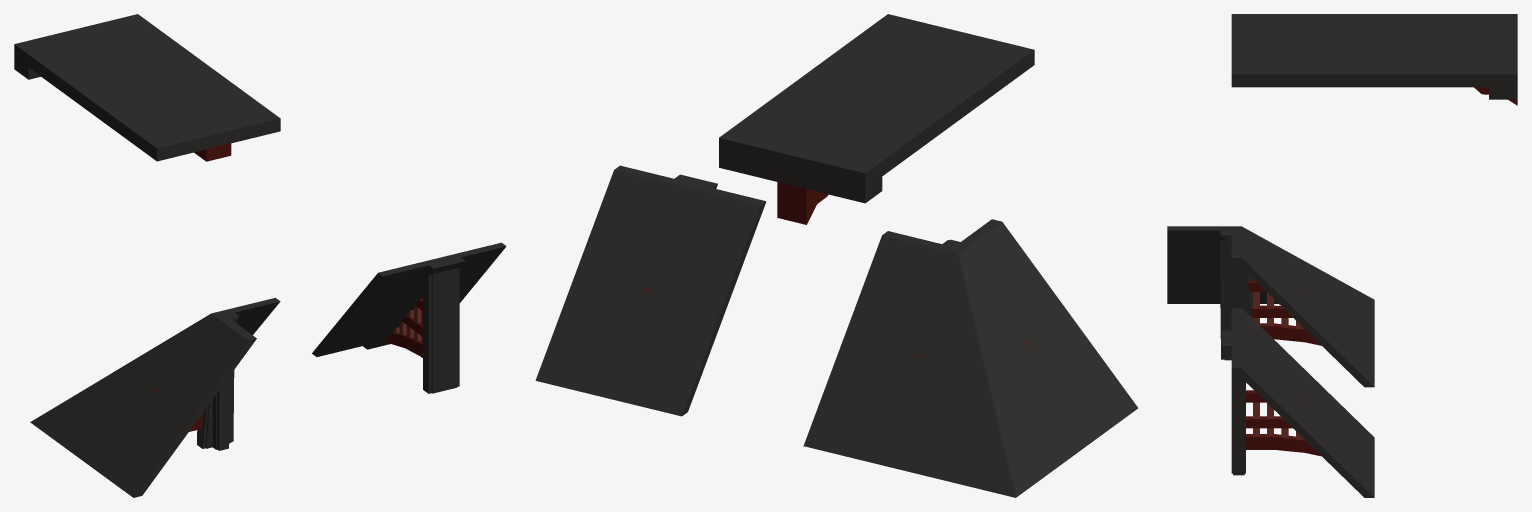
File: CastleRoofs.fbx
3 views of the same model, side by side, from view 1: azimuth 30°, elevation 25°; view 2: azimuth 150°, elevation 25°; view 3: azimuth 270°, elevation 25° (orthographic). The views are drawn at different scales.
Visible parts, largest first — view 1: Roof, Cube.015, Roof.004; view 2: Cube.015, Roof, Roof.004; view 3: Roof, Cube.015, Roof.004.
Boxes of the visible parts, box(x1,y1,x2,y2) form: Roof: box(85, 66, 506, 393); Cube.015: box(30, 298, 280, 497); Roof.004: box(14, 14, 208, 108); Cube.015: box(803, 219, 1137, 497); Roof: box(535, 14, 1034, 416); Roof.004: box(719, 76, 949, 224); Roof: box(1221, 14, 1374, 497); Cube.015: box(1167, 226, 1374, 387); Roof.004: box(1374, 14, 1517, 105).
Size of the model in its own units: 656 by 483 by 490.
